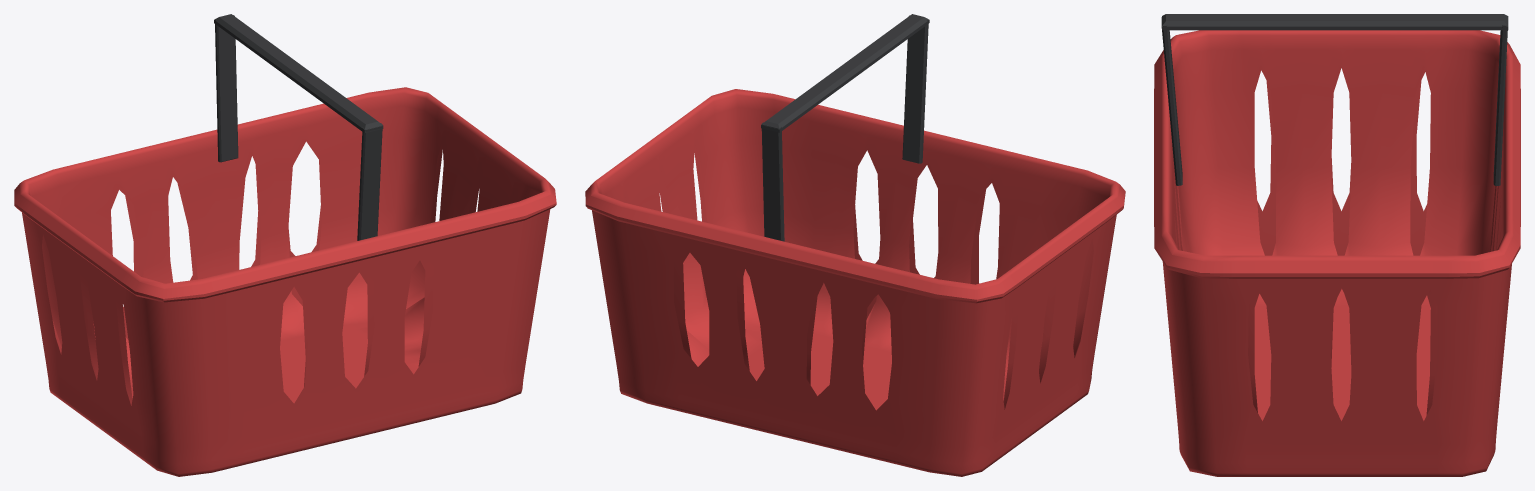
The model's file is basket.fbx.
3 views of the same model, side by side, from view 1: azimuth 30°, elevation 25°; view 2: azimuth 150°, elevation 25°; view 3: azimuth 270°, elevation 25° (orthographic). The views are drawn at different scales.
Parts seen in each view (by area): view 1: handle1; view 2: handle1; view 3: handle1.
Boxes of the visible parts, x1=… form: handle1: x1=14, y1=14, x2=556, y2=476; handle1: x1=585, y1=14, x2=1125, y2=476; handle1: x1=1154, y1=14, x2=1520, y2=476.
Size of the model in its own units: 28.94 by 20.92 by 19.
